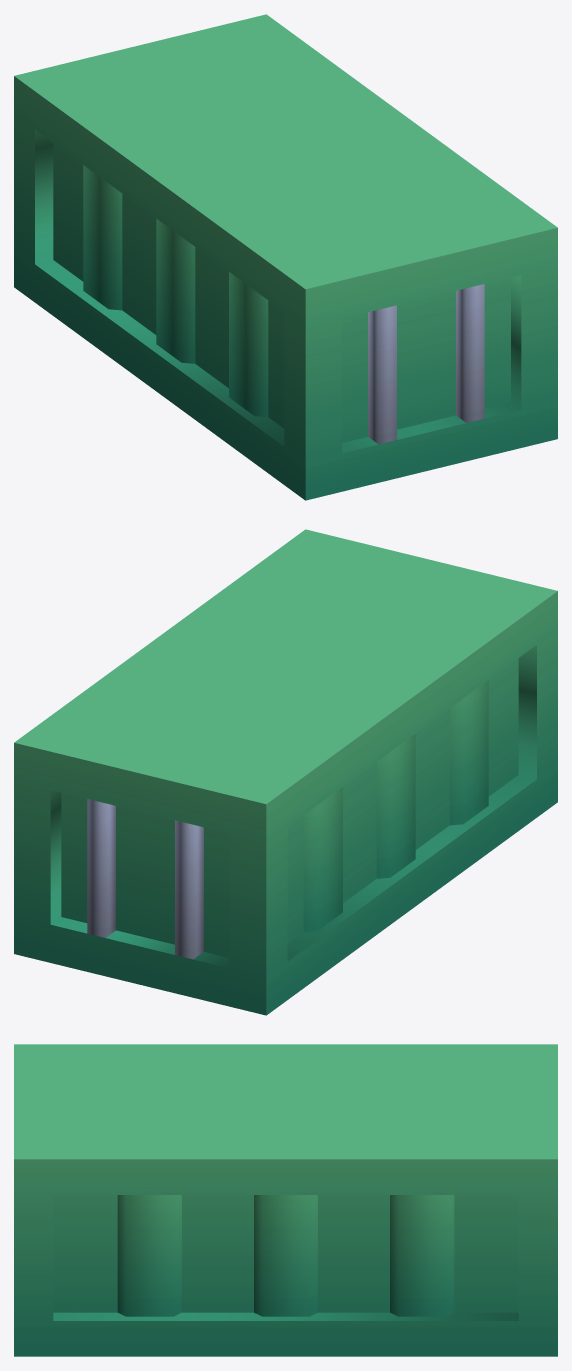
File: cargo-container-c.glb
The picture shows the model from 3 angles, top to bottom: view 1: azimuth 30°, elevation 25°; view 2: azimuth 150°, elevation 25°; view 3: azimuth 270°, elevation 25°; orthographic projection. The views are drawn at different scales.
Visible parts, largest first — view 1: cargo-container-c; view 2: cargo-container-c; view 3: cargo-container-c.
Boxes of the visible parts, x1,y1,x2,y2 form: cargo-container-c: (14,14,557,500); cargo-container-c: (14,529,557,1015); cargo-container-c: (14,1044,557,1356).
Size of the model in its own units: 1.38 by 1.1 by 2.76.
1 material, 1 textured.
